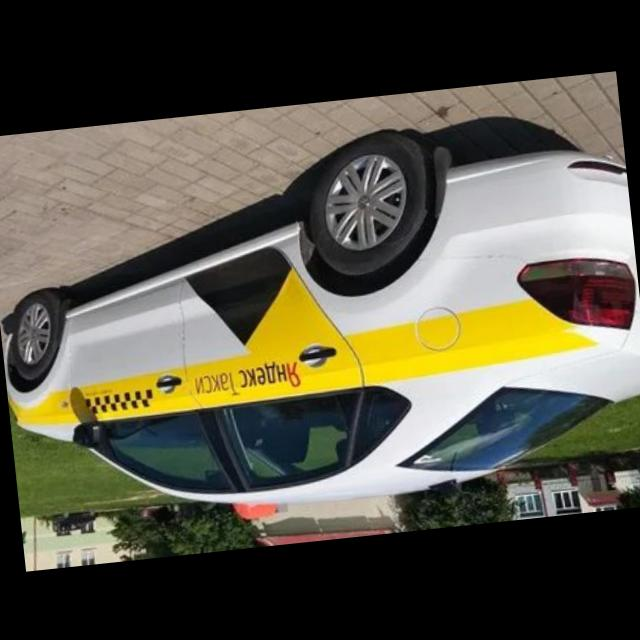taxi: (1, 104, 640, 545)
